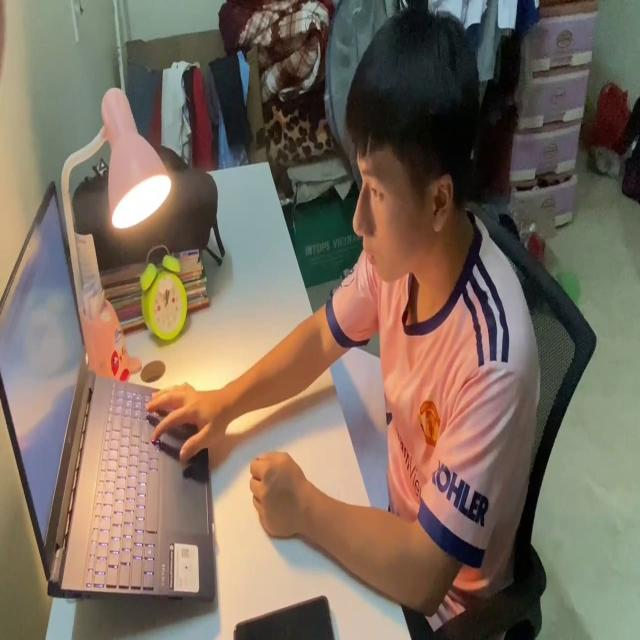book: (328, 343, 395, 522)
laptop: (1, 180, 217, 606)
phone: (231, 591, 335, 640)
student: (144, 11, 540, 630)
